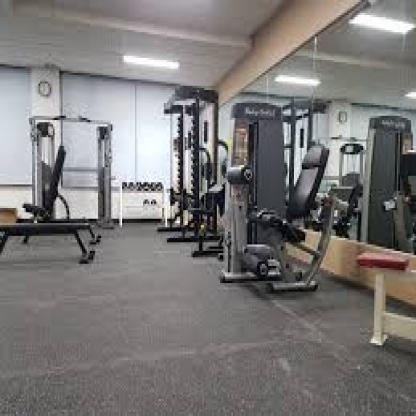leg extension: (204, 91, 353, 314)
